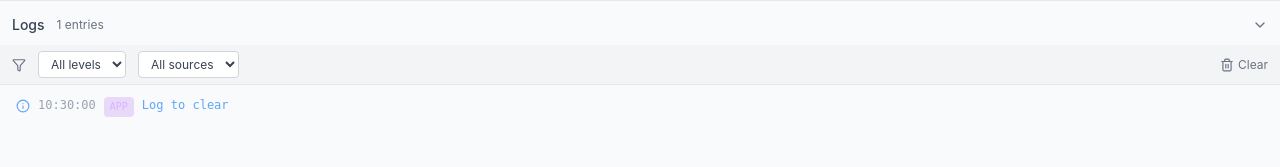
Test: LogPanel › Clear Logs › should clear logs when clear button is clicked
This screenshot has width=1280, height=167.
expect the text "Log to clear" is shown: met, box [142,98,229,112]
Click the button "Clear": point(1244, 64) [1220,56,1268,72]
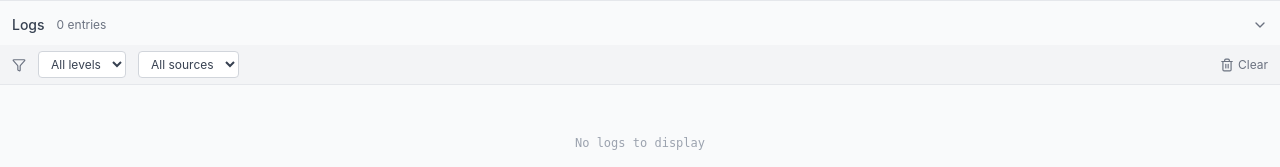
expect the text "Log to clear" is gone: met
expect the text "No logs to display" is shown: met, box [575,136,705,150]
